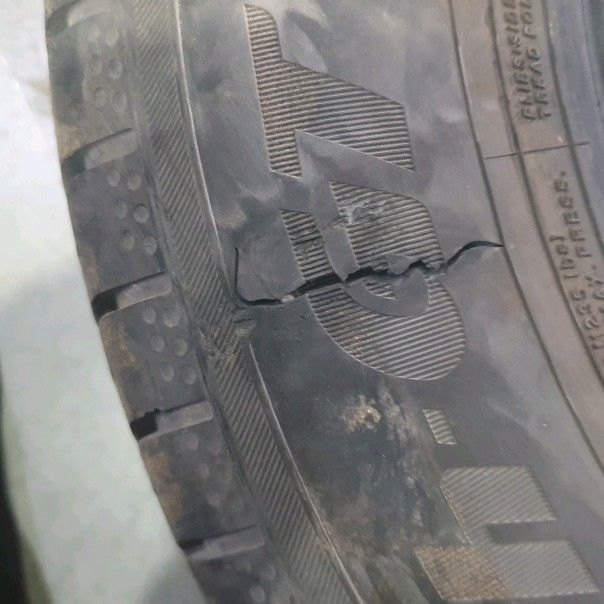cut: (233, 238, 496, 309)
